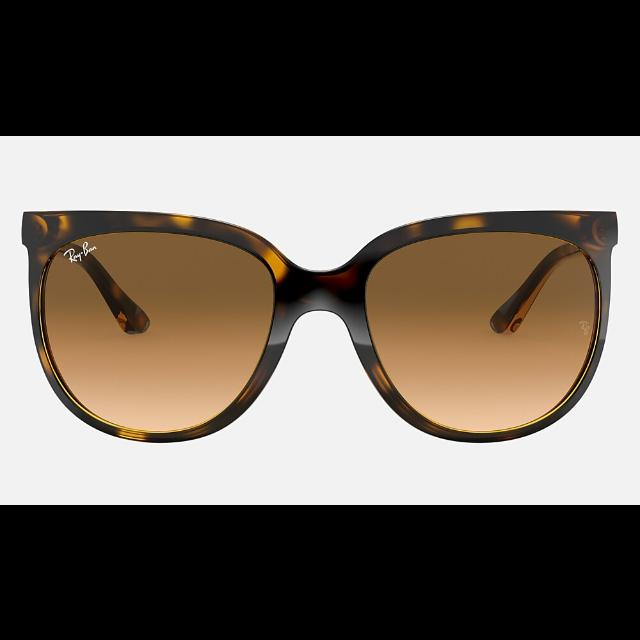Sunglasses: (21, 208, 622, 444)
